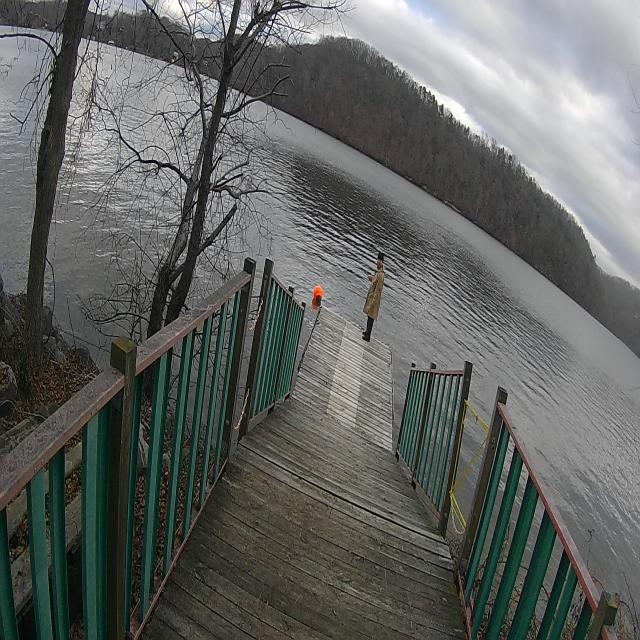Buoy: (310, 280, 324, 311)
